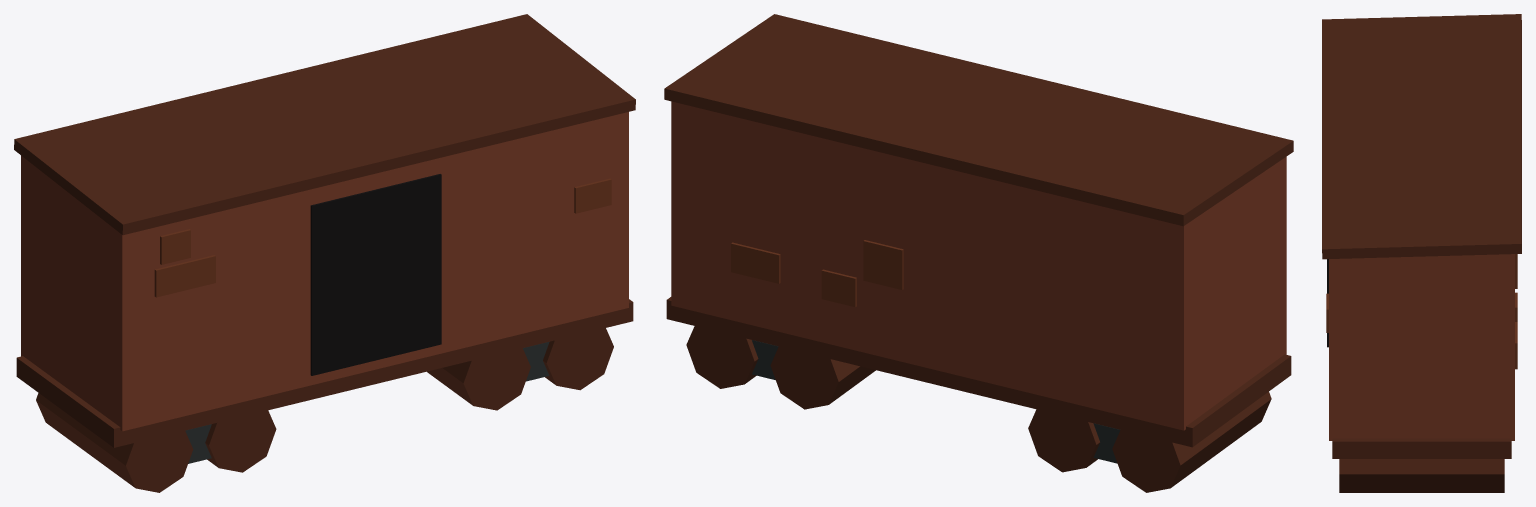
The model's file is rail_wagon.glb.
3 renders of one model, left to right at view 1: azimuth 30°, elevation 25°; view 2: azimuth 150°, elevation 25°; view 3: azimuth 270°, elevation 25°, orthographic. The views are drawn at different scales.
Parts seen in each view (by area): view 1: rail_wagon2; view 2: rail_wagon2; view 3: rail_wagon2.
Boxes of the visible parts, box(x1,y1,x2,y2) form: rail_wagon2: box(14, 14, 635, 492); rail_wagon2: box(664, 14, 1293, 492); rail_wagon2: box(1322, 14, 1521, 492).
Size of the model in its own units: 4 by 2.15 by 1.45.
